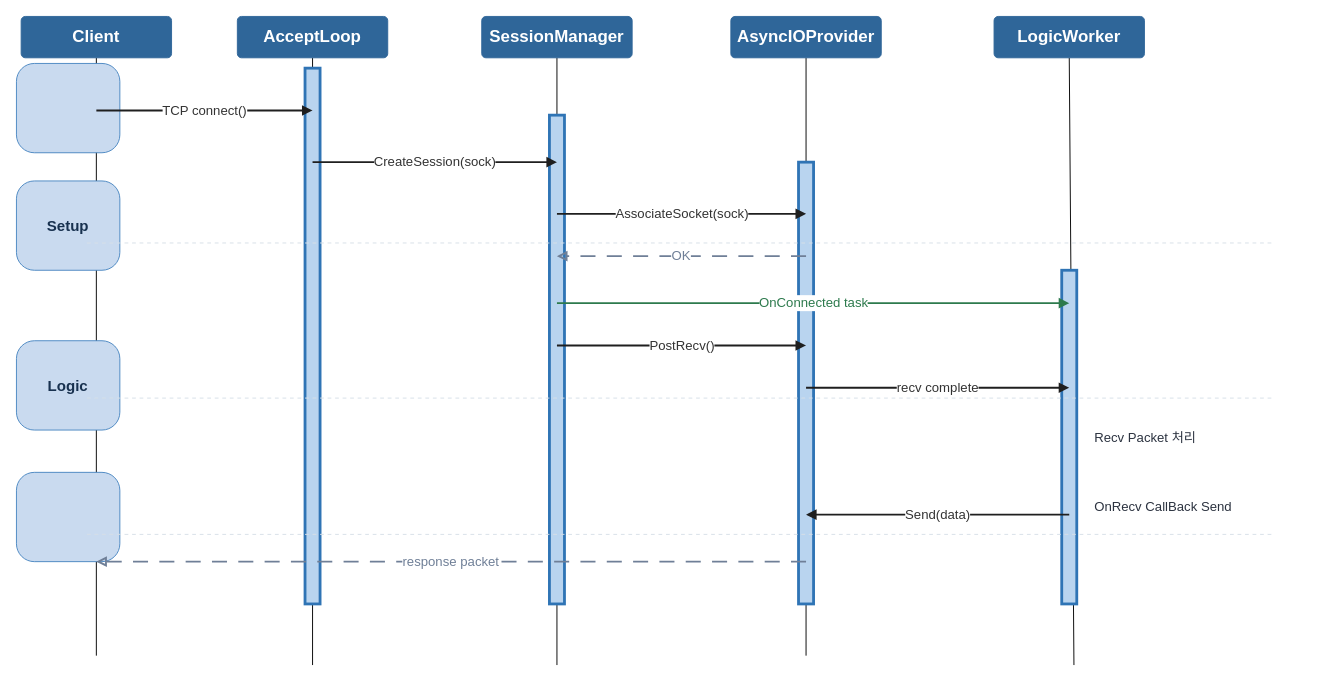
This 1335x695 diagram has some shape labels left out. Here are the shapes that lost their labels. From the top down, the centre of each, then its label:
At point (68, 108): "Accept".
At point (68, 516): "Send".
